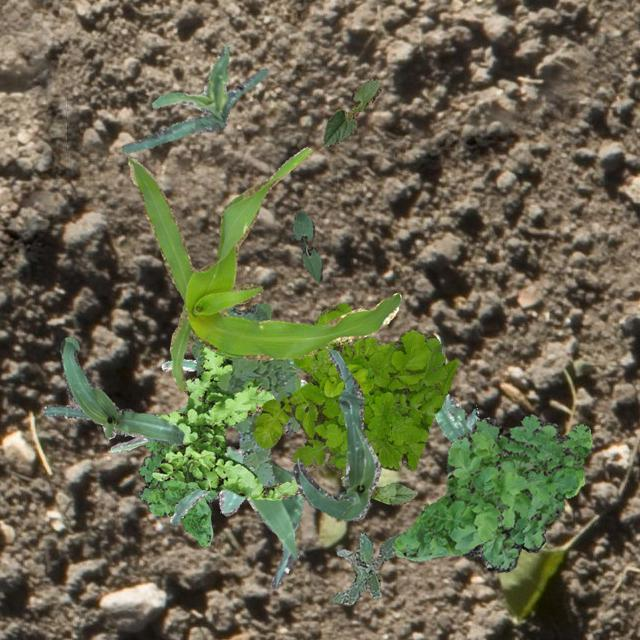crop: (127, 147, 400, 390), (170, 446, 304, 588), (110, 358, 306, 452), (120, 46, 266, 152), (292, 346, 380, 520), (42, 336, 182, 444), (322, 76, 381, 144), (434, 392, 478, 443), (292, 210, 321, 282), (341, 478, 416, 503)
weed: (253, 302, 457, 476), (390, 414, 592, 572), (152, 344, 300, 499), (190, 302, 300, 486), (138, 441, 218, 546), (331, 532, 401, 604)
